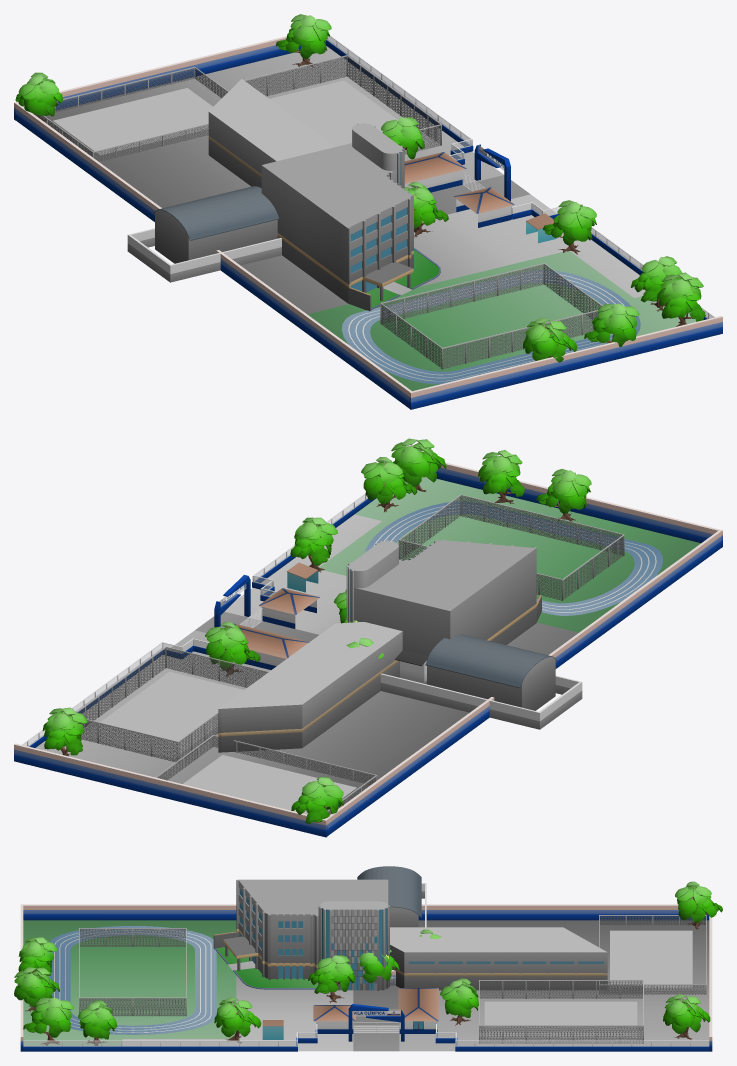
Rendered from Cenario.fbx.
The picture shows the model from 3 angles, top to bottom: view 1: azimuth 30°, elevation 25°; view 2: azimuth 150°, elevation 25°; view 3: azimuth 270°, elevation 25°; orthographic projection. The views are drawn at different scales.
Visible parts, largest first — view 1: Vila Olimpica, Policlinica, Galpao; view 2: Vila Olimpica, Policlinica, Galpao; view 3: Vila Olimpica, Policlinica, Galpao, arvore.
Part boxes in pixels (<box>): Vila Olimpica: <box>14,14,722,409</box>; Policlinica: <box>208,79,440,311</box>; Galpao: <box>127,186,281,282</box>; Vila Olimpica: <box>14,438,722,837</box>; Policlinica: <box>218,539,541,752</box>; Galpao: <box>380,634,582,729</box>; Vila Olimpica: <box>14,881,722,1051</box>; Policlinica: <box>213,879,607,990</box>; Galpao: <box>357,866,426,985</box>; arvore: <box>359,949,399,982</box>.
Size of the model in its own units: 3030 by 793 by 5865.
